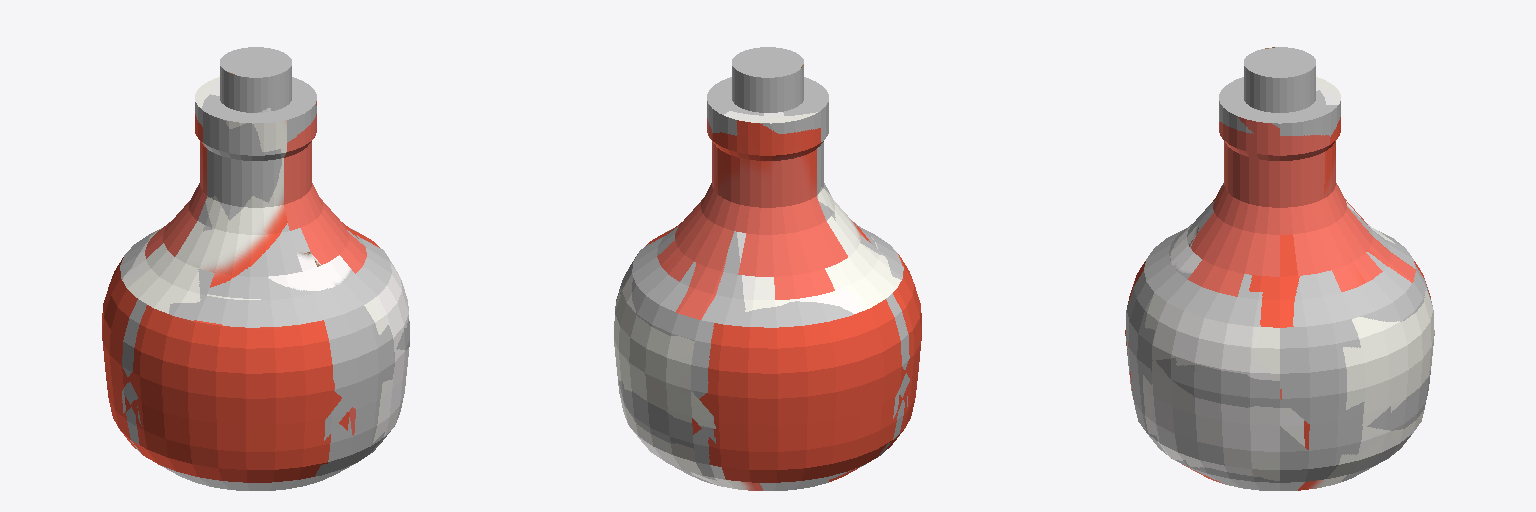
3 views of the same model, side by side, from view 1: azimuth 30°, elevation 25°; view 2: azimuth 150°, elevation 25°; view 3: azimuth 270°, elevation 25° (orthographic).
Visible parts, largest first — view 1: Cilindro; view 2: Cilindro; view 3: Cilindro.
Part boxes in pixels (left/top/right/bottom): Cilindro: left=102, top=47, right=409, bottom=490; Cilindro: left=614, top=47, right=921, bottom=490; Cilindro: left=1125, top=47, right=1434, bottom=490.
Size of the model in its own units: 0.3589 by 0.4954 by 0.3589.
1 materials, 1 textured.